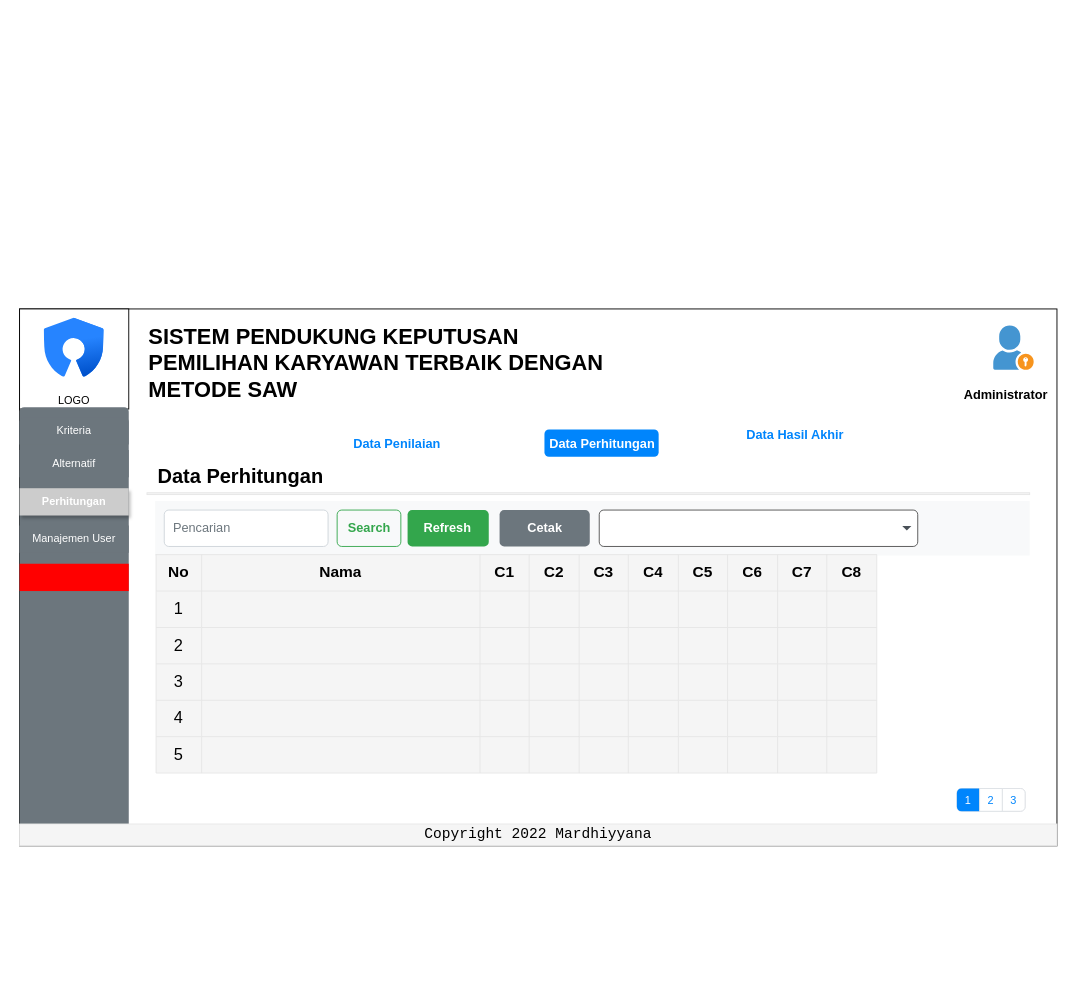
Image size: 1073x1001. Some labels were removed from this diagram. Each missing label, with the centre of its shape:
Keluar: the point at 73,577
Periode Penilaian: the point at 758,527
